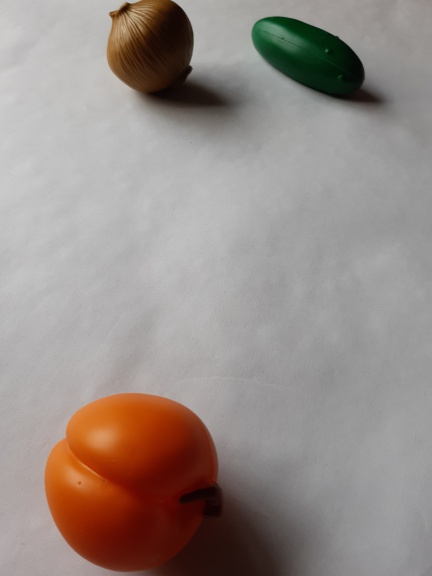apricot: (33, 386, 233, 576)
cucumber: (244, 5, 375, 104)
onion: (94, 1, 203, 97)
